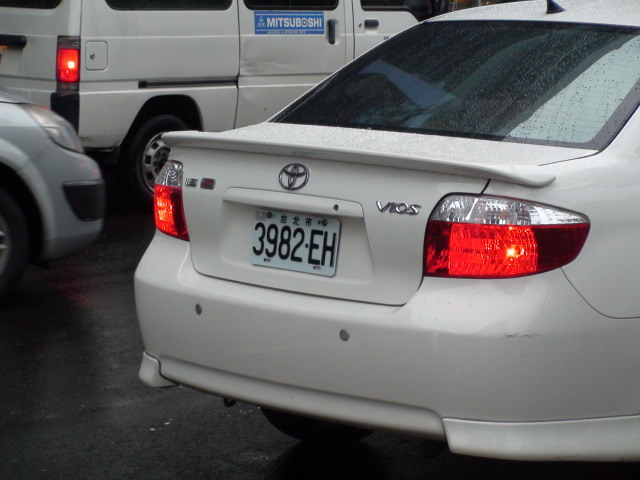plate: (250, 204, 346, 278)
